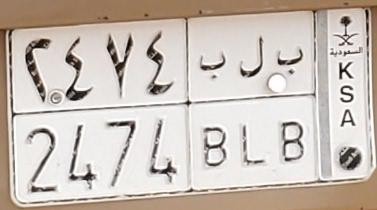2: (22, 37, 60, 194)
4: (64, 35, 99, 190), (144, 29, 178, 184)
7: (104, 31, 136, 188)
B: (199, 51, 230, 167), (276, 47, 306, 163)
L: (236, 35, 268, 166)
